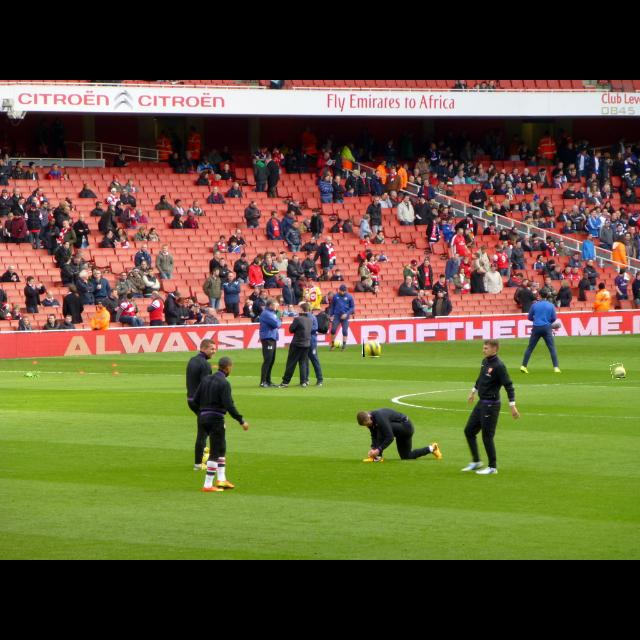Football: (363, 337, 379, 357), (611, 364, 625, 378)
